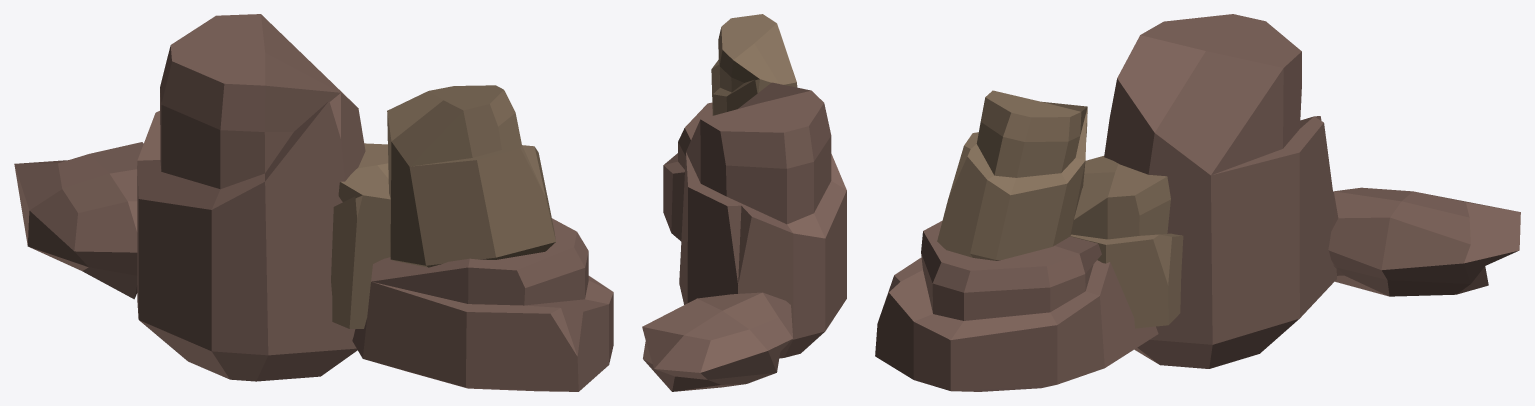
Rendered from stoneset3.fbx.
3 views of the same model, side by side, from view 1: azimuth 30°, elevation 25°; view 2: azimuth 150°, elevation 25°; view 3: azimuth 270°, elevation 25° (orthographic). The views are drawn at different scales.
Parts seen in each view (by area): view 1: Cube.025; view 2: Cube.025; view 3: Cube.025.
Boxes of the visible parts, x1,y1,x2,y2 form: Cube.025: (14, 14, 613, 391); Cube.025: (642, 14, 846, 391); Cube.025: (875, 14, 1520, 391).
Size of the model in its own units: 3254 by 2759 by 5466.
